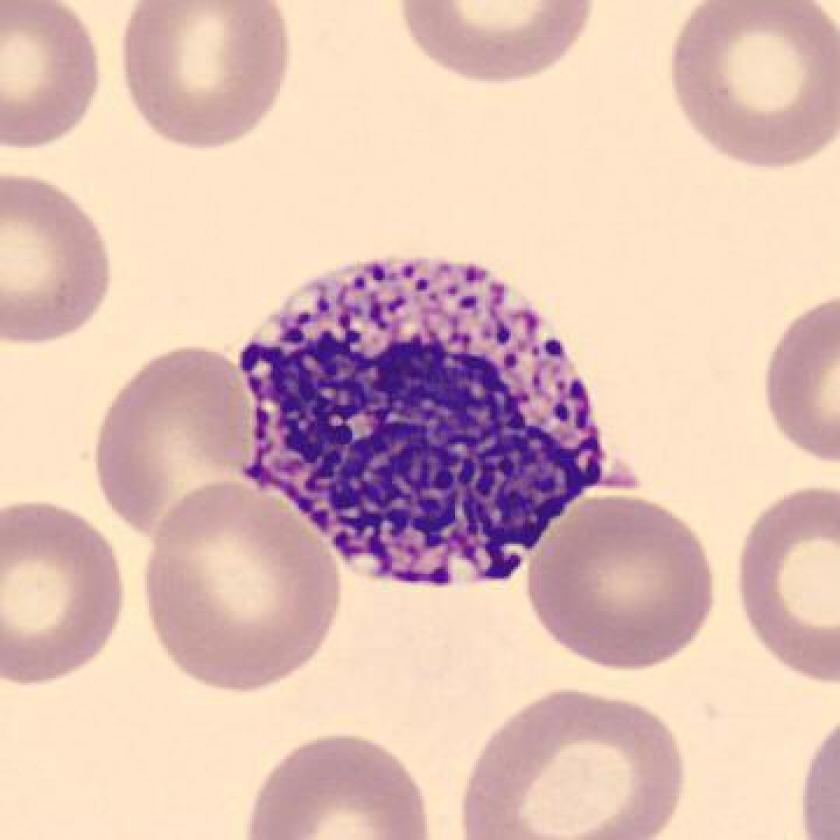basophil: (235, 249, 620, 596)
